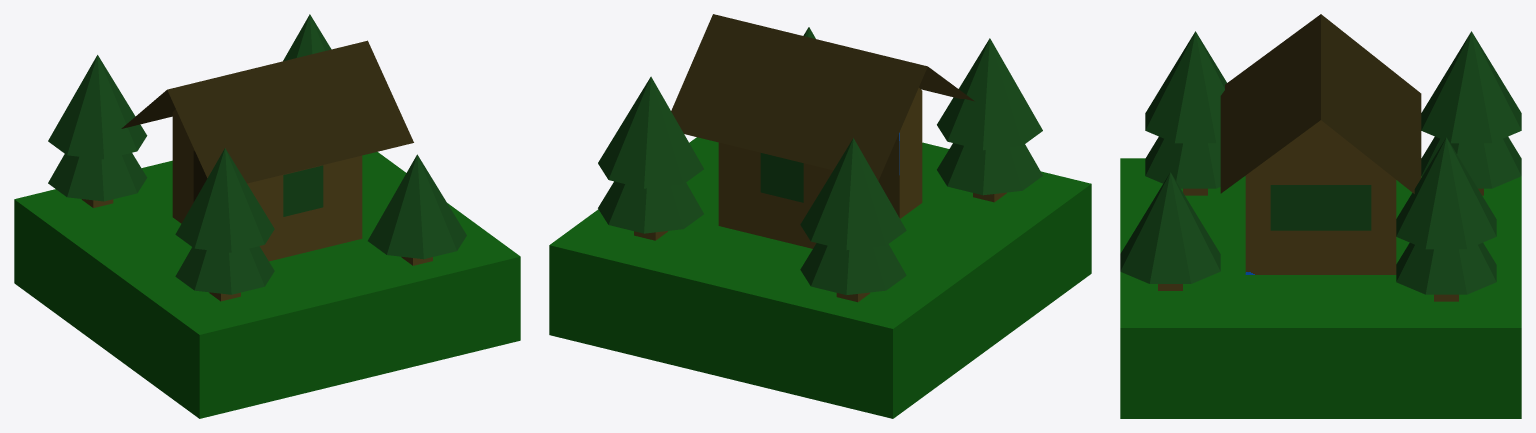
Rendered from forest.obj.
The picture shows the model from 3 angles, left to right: view 1: azimuth 30°, elevation 25°; view 2: azimuth 150°, elevation 25°; view 3: azimuth 270°, elevation 25°; orthographic projection. The views are drawn at different scales.
Parts seen in each view (by area): view 1: grass, cone, plane, cuboid, cylinder; view 2: grass, cone, plane, cuboid, cylinder; view 3: grass, cone, plane, cuboid, cylinder.
Boxes of the visible parts, x1,y1,x2,y2 form: grass: (14, 152, 520, 418); cone: (48, 14, 466, 294); plane: (121, 40, 413, 216); cuboid: (172, 112, 362, 261); cylinder: (81, 199, 432, 301); grass: (549, 137, 1091, 418); cone: (598, 27, 1042, 294); plane: (671, 14, 974, 217); cuboid: (718, 91, 922, 248); cylinder: (634, 192, 1006, 302); grass: (1120, 158, 1521, 418); cone: (1120, 31, 1521, 294); plane: (1220, 14, 1421, 230); cuboid: (1245, 161, 1396, 274); cylinder: (1158, 188, 1483, 301).
Size of the model in its own units: 0.25 by 0.1836 by 0.25.
Materials: 1 (1 with a texture image).
